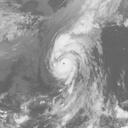cyclone: (48, 50, 79, 80)
